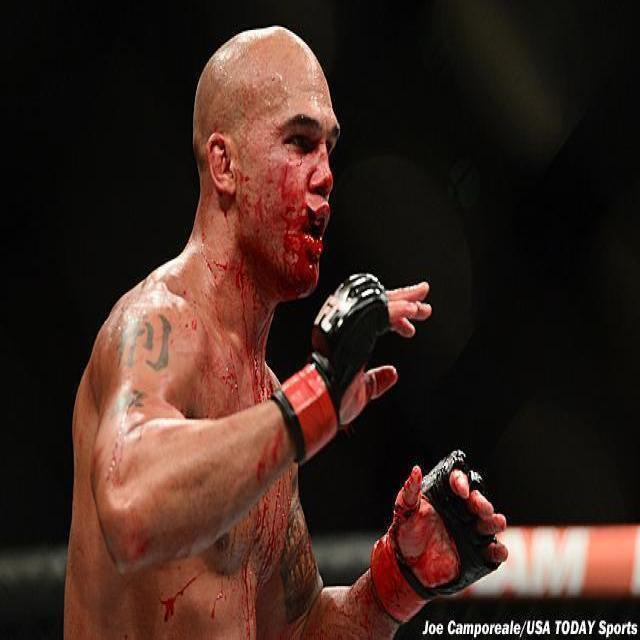flood: (250, 483, 295, 640), (276, 179, 324, 292), (233, 282, 272, 404)
